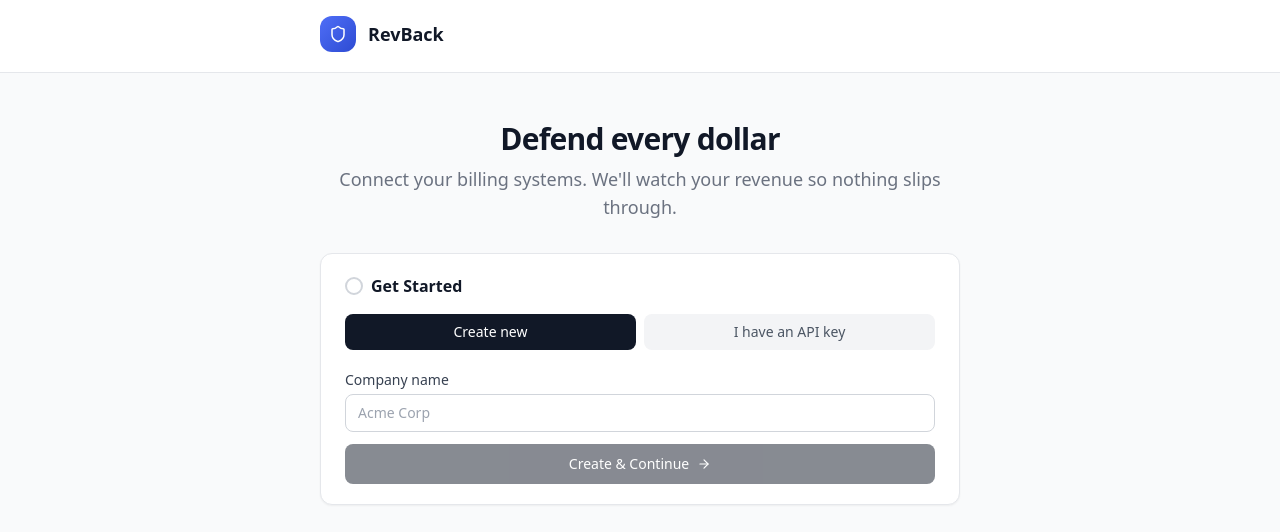
it: OnboardingPage › Section 1: Create org flow › creates org and shows API key
In the field with placeholder "Acme Corp": (640, 413) x1=345 y1=394 x2=935 y2=432, type "Test Co"
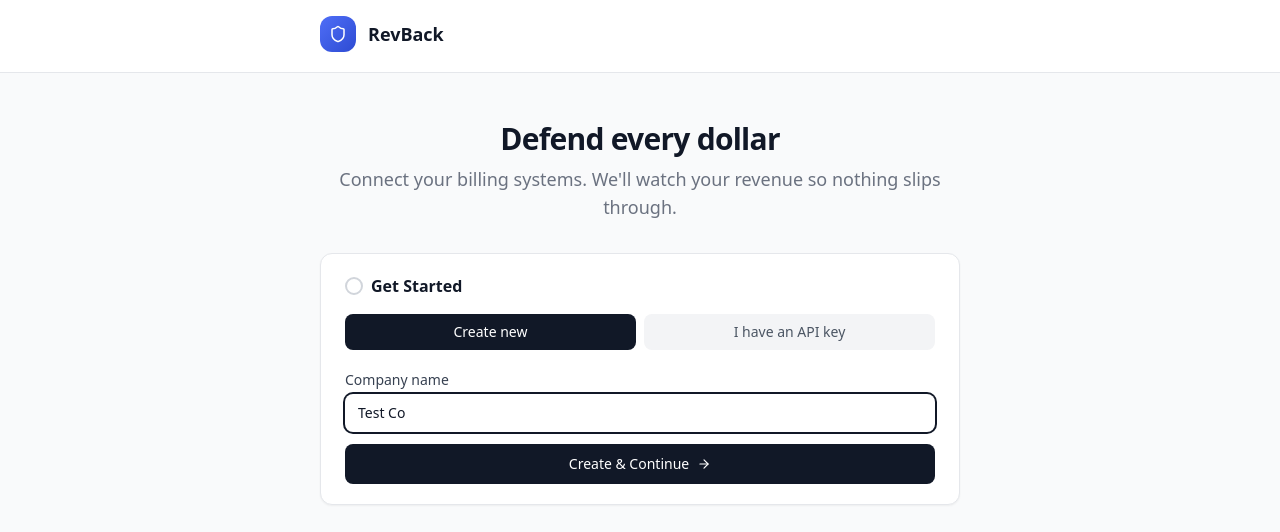
Click the button "Create & Continue": (640, 464) x1=345 y1=444 x2=935 y2=484
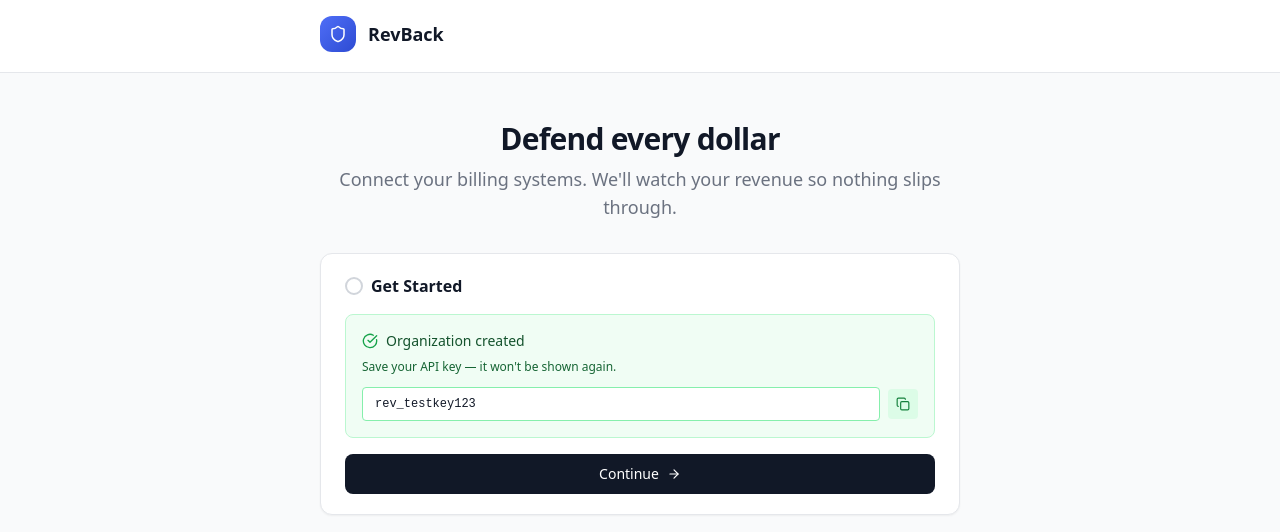
Expected: the text "Organization created" is shown, x1=386 y1=331 x2=525 y2=351
Expected: the text "rev_testkey123" is shown, x1=362 y1=387 x2=880 y2=421
Expected: the text "Save your API key — it won't be shown again." is shown, x1=362 y1=358 x2=616 y2=375
